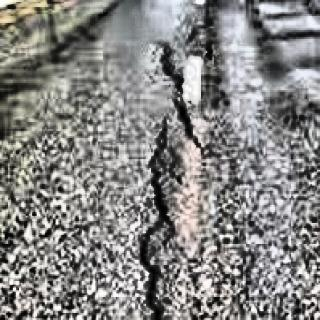crack: (134, 116, 176, 320), (154, 40, 203, 155), (188, 0, 213, 63)
